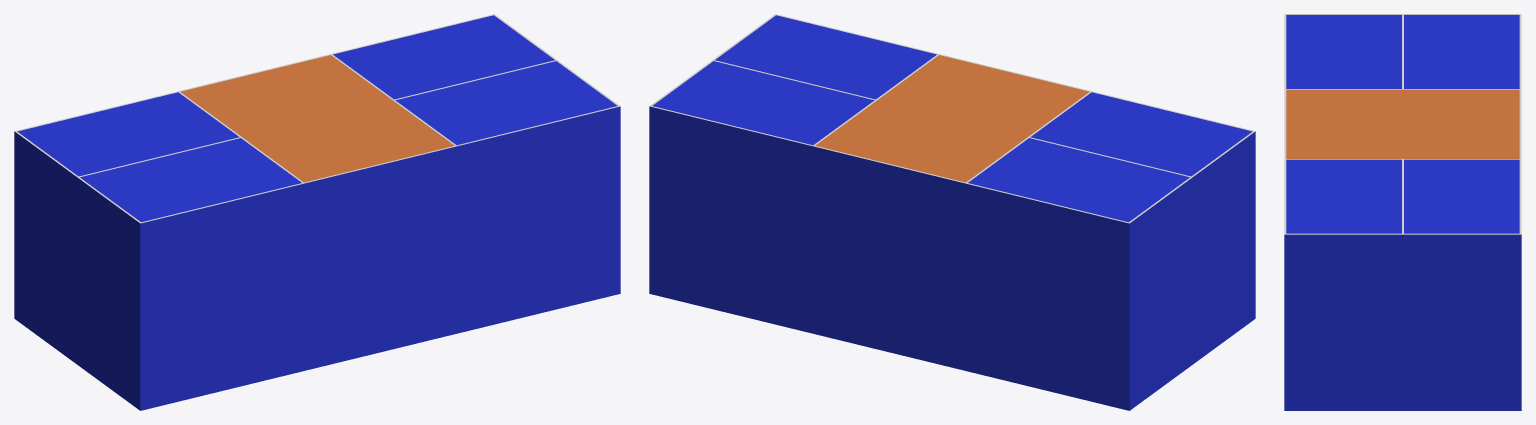
File: Court.fbx
3 renders of one model, left to right at view 1: azimuth 30°, elevation 25°; view 2: azimuth 150°, elevation 25°; view 3: azimuth 270°, elevation 25°, orthographic. The views are drawn at different scales.
Visible parts, largest first — view 1: Exported; view 2: Exported; view 3: Exported.
Part boxes in pixels (x1,y1,x2,y2): Exported: (14,14,620,410); Exported: (649,14,1255,410); Exported: (1284,14,1521,410).
Bounding box in the file's own units: 610 × 1341 × 500.
